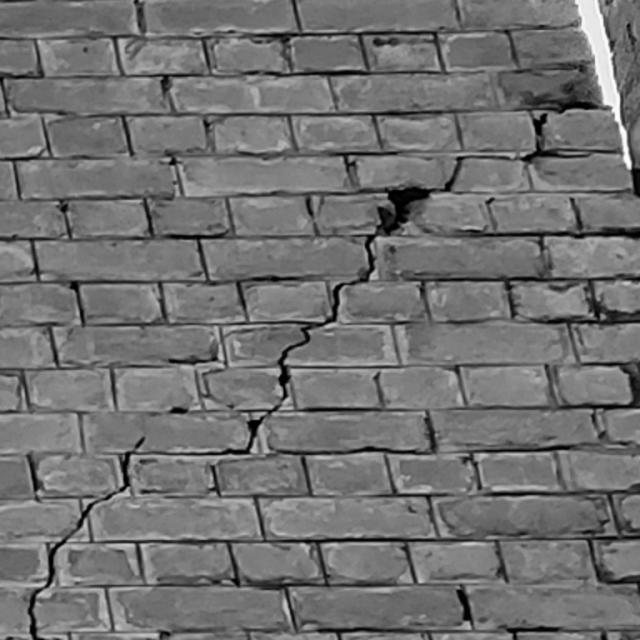crack: (210, 104, 605, 494), (27, 436, 146, 639)
